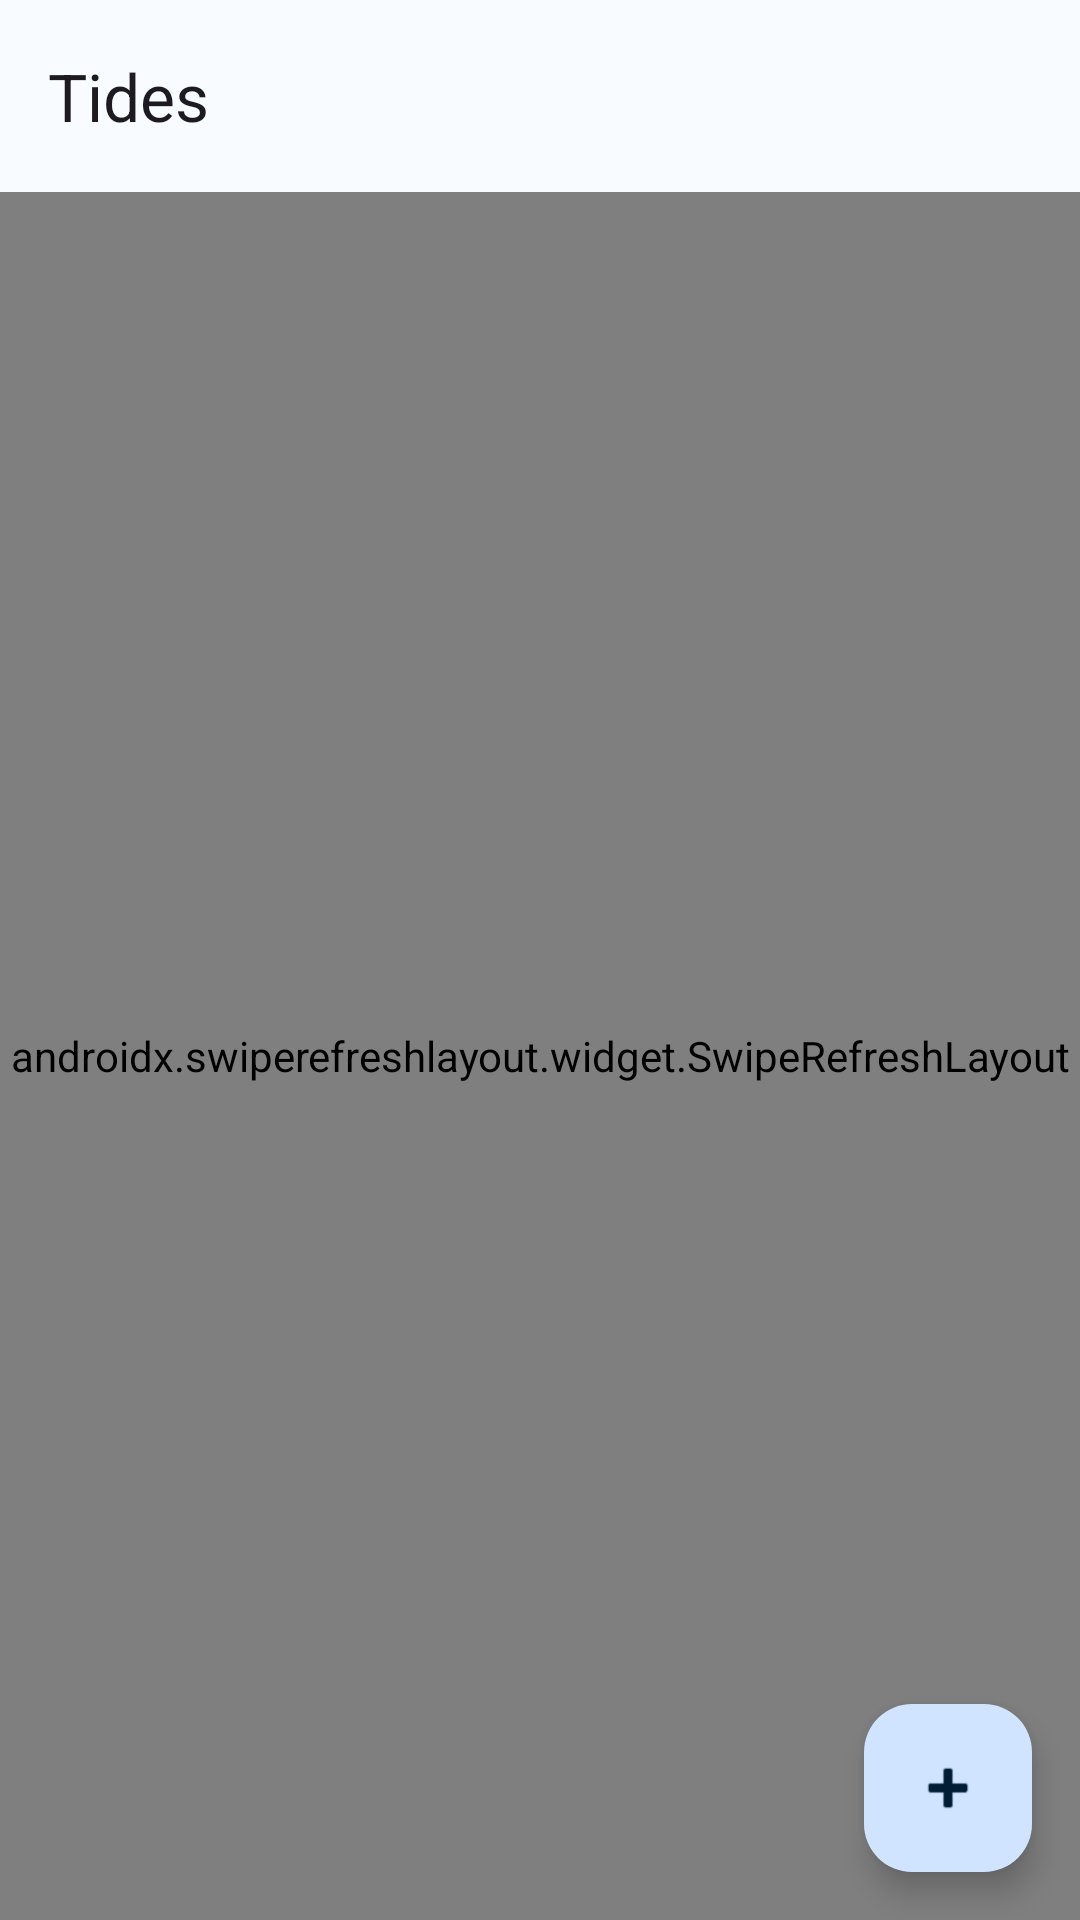

Icons on this 1080 x 1920 Android screen, each with the point to tap as [x,y]:
Add tide station: [948,1788]
